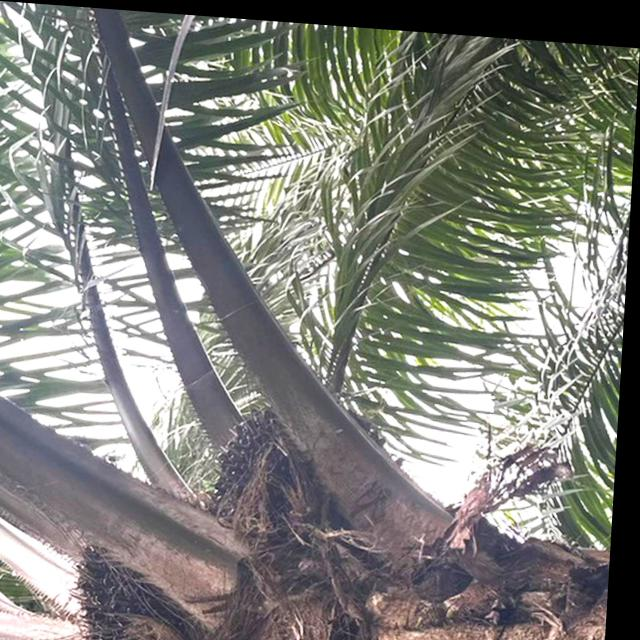almost: (211, 385, 366, 543), (65, 497, 200, 640)
